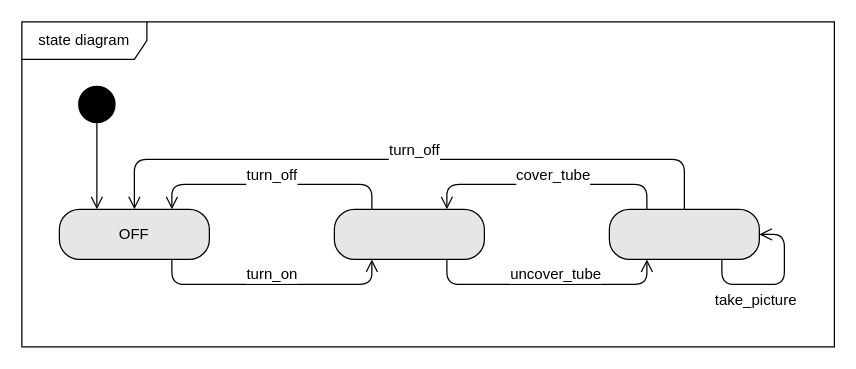
Image size: 856x369. Some labels were removed from this diagram. The shapes that lost their labels are listed below. From the top down, each one's centre as x and y in pixels, then its label:
At pixel 408 233: "IDLE".
At pixel 683 233: "PICTURE_MODE".
